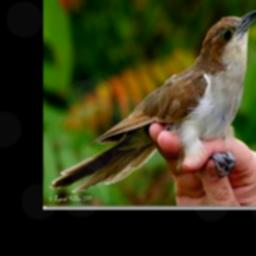Cuckoo: (48, 7, 256, 192)
